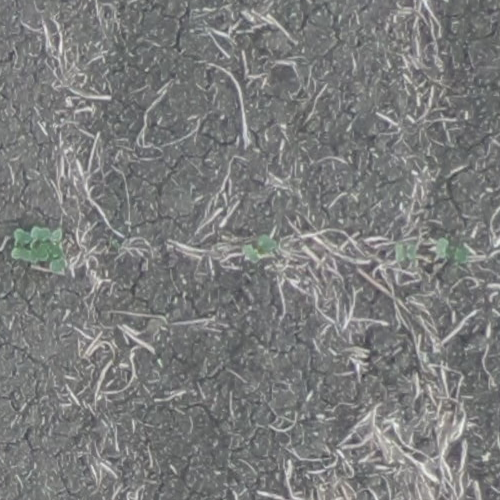clumped: (9, 226, 56, 267)
isolated: (243, 233, 282, 264), (436, 238, 470, 266), (394, 243, 415, 267)
